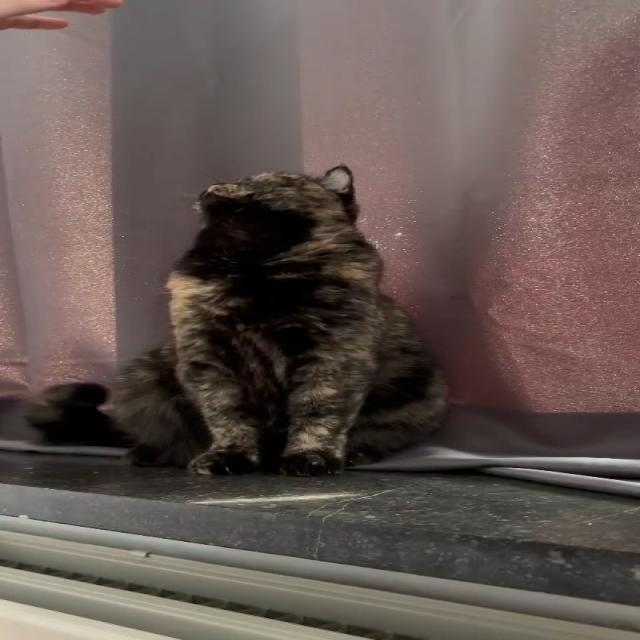authorized: (105, 163, 451, 477)
